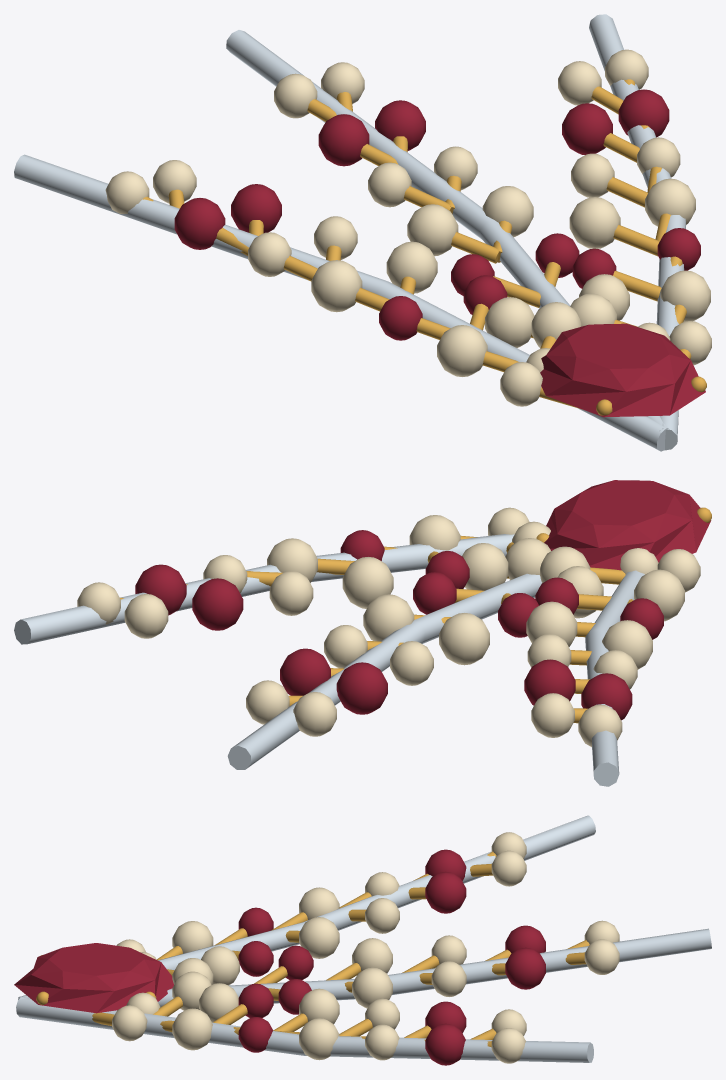
Rendered from pearl_aigrette.fbx.
3 renders of one model, top to bottom at view 1: azimuth 30°, elevation 25°; view 2: azimuth 150°, elevation 25°; view 3: azimuth 270°, elevation 25°, orthographic. The views are drawn at different scales.
Visible parts, largest first — view 1: pearl_aigrette joinery; view 2: pearl_aigrette joinery; view 3: pearl_aigrette joinery.
Boxes of the visible parts, x1,y1,x2,y2 form: pearl_aigrette joinery: (14, 14, 711, 451); pearl_aigrette joinery: (14, 480, 711, 786); pearl_aigrette joinery: (14, 815, 711, 1065).
Bounding box in the file's own units: 0.0745 × 0.0133 × 0.0932.
